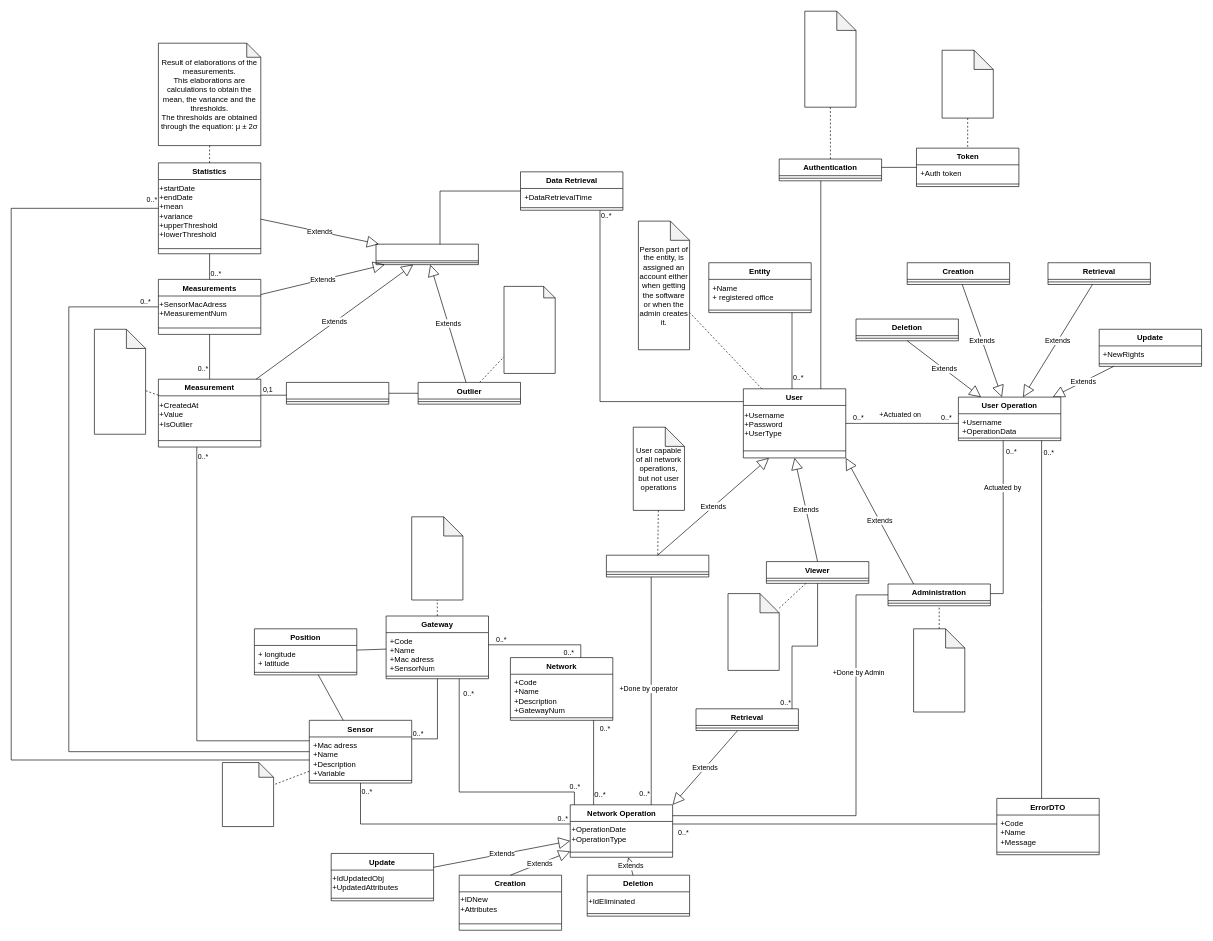
Some shapes in this 1213 by 941 pixel diagram are drawn without their labels. The centre of each missing label's shape, as x and y in pixels:
"Any value that surpass the higher threshold or is lower than the lower threshold" goes at point (529, 329).
"Data" goes at point (426, 254).
"Device that enables internet connection with sensors" goes at point (437, 558).
"Device that produce measurements" goes at point (248, 794).
"Flag" goes at point (337, 393).
"Operation to make sure that the user is the person assigned to the account" goes at point (830, 59).
"Operator" goes at point (657, 566).
"Single value that describes the entity of a specific phisical quality" goes at point (120, 381).
"Unique string requested for authentication" goes at point (967, 84).
"User capable of all network operations and user operations" goes at point (939, 670).
"User capable only of retrieval operations" goes at point (753, 631).
